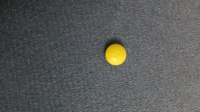Nurofen: (104, 41, 128, 68)
